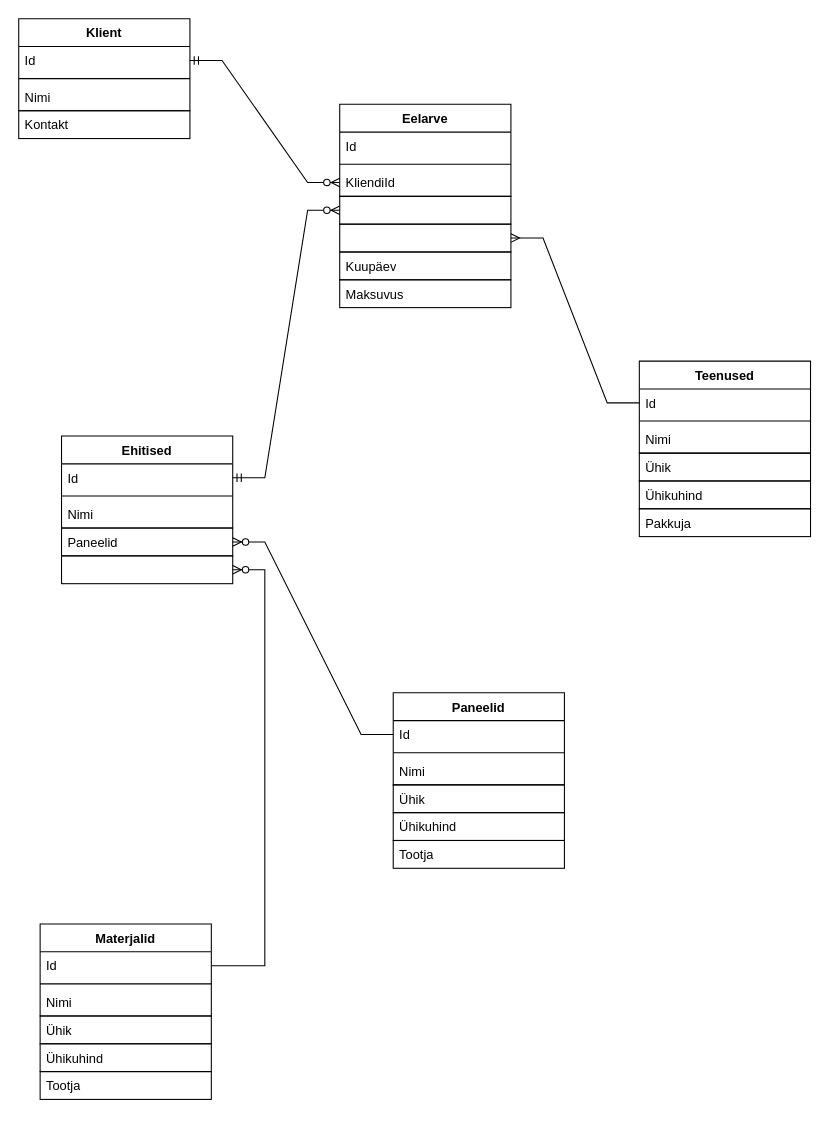
This 829x1121 diagram has some shape labels left out. Here are the shapes that lost their labels. From the top down, the centre of each, then its label:
At point 425,209: "EhitiseId".
At point 425,237: "TeenusedId".
At point 146,569: "MaterjalidId".
